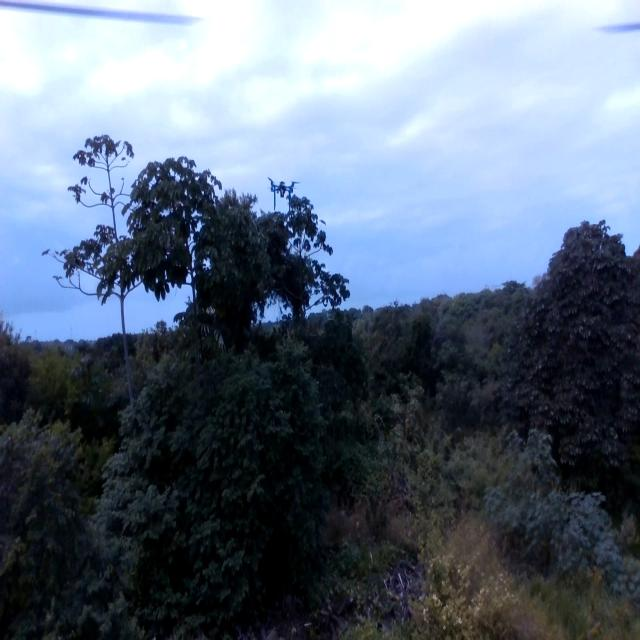-uav-: (257, 163, 308, 212)
